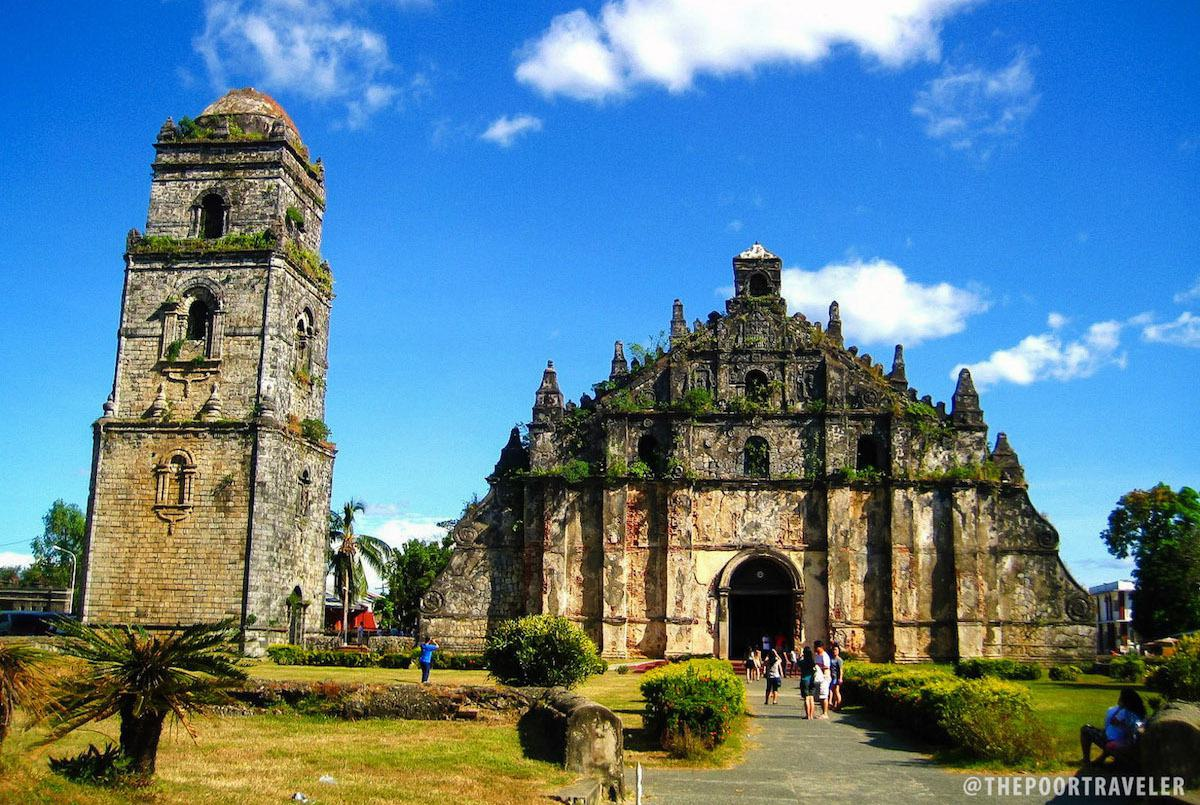paoay_church_paoay_ilocos_norte: (71, 76, 1109, 674)
vegetation_damage: (133, 226, 276, 258), (606, 390, 715, 419), (283, 239, 341, 292), (915, 457, 1004, 486), (531, 452, 600, 481), (291, 410, 339, 446), (835, 459, 886, 490)
